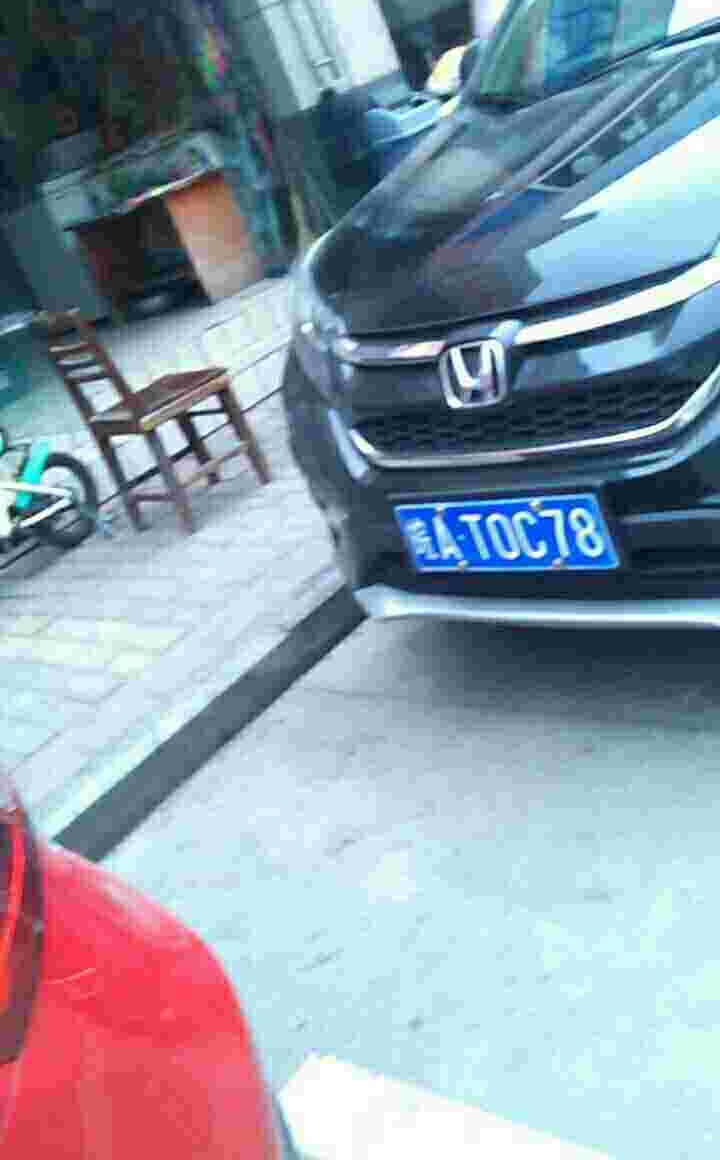car: (394, 491, 614, 584)
